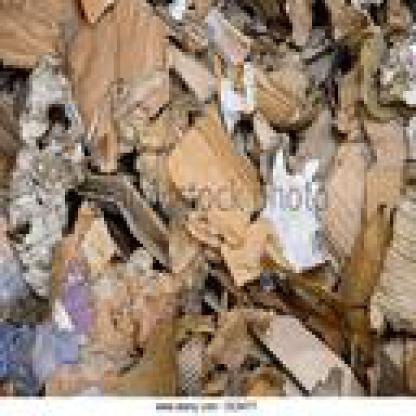CARDBOARD: (0, 0, 413, 393), (30, 195, 150, 390), (6, 48, 88, 296), (166, 104, 256, 237), (0, 263, 91, 390), (240, 306, 364, 393), (62, 169, 166, 263), (257, 140, 328, 270), (62, 7, 114, 169), (312, 130, 374, 263), (114, 0, 166, 153), (332, 202, 393, 332), (244, 270, 338, 348), (211, 0, 325, 62), (237, 58, 335, 130), (364, 192, 413, 332), (133, 100, 185, 218), (202, 306, 270, 393), (332, 33, 390, 134), (110, 306, 176, 390), (0, 218, 46, 322), (354, 104, 400, 195), (0, 0, 59, 69), (126, 270, 176, 348), (0, 75, 23, 221), (364, 328, 413, 394), (162, 36, 212, 100), (374, 19, 412, 100), (169, 218, 201, 306), (218, 212, 260, 276), (224, 354, 286, 394), (152, 0, 202, 49), (176, 325, 212, 390), (201, 247, 237, 305), (39, 364, 111, 390), (292, 101, 332, 143), (321, 0, 371, 33), (367, 0, 413, 33), (338, 306, 364, 358), (172, 306, 212, 335), (32, 0, 78, 23), (211, 58, 234, 104), (250, 111, 283, 143), (78, 0, 114, 20), (400, 107, 412, 159), (396, 156, 413, 192), (179, 0, 211, 16), (218, 279, 240, 299)
